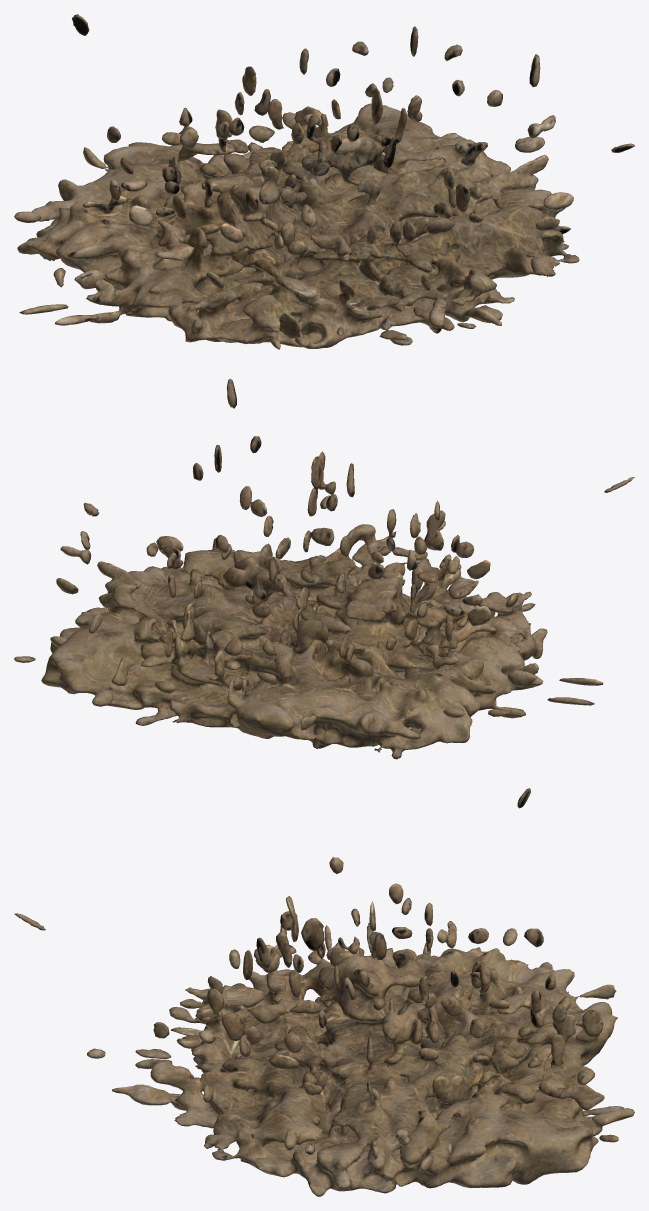
Rendered from Dead_Grass_0423115018_refine.fbx.
3 views of the same model, one above another, from view 1: azimuth 30°, elevation 25°; view 2: azimuth 150°, elevation 25°; view 3: azimuth 270°, elevation 25° (orthographic). The views are drawn at different scales.
Visible parts, largest first — view 1: Mesh_0; view 2: Mesh_0; view 3: Mesh_0.
Boxes of the visible parts, <box> form: Mesh_0: <box>14,14,634,349</box>; Mesh_0: <box>14,378,634,759</box>; Mesh_0: <box>14,788,634,1196</box>.
Size of the model in its own units: 153 by 63.81 by 145.
Materials: 1 (1 with a texture image).
